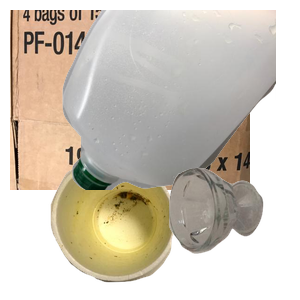cardboard: (10, 10, 250, 190)
glass: (166, 165, 300, 300)
plastic: (60, 10, 300, 190)
trash: (48, 152, 219, 300)
